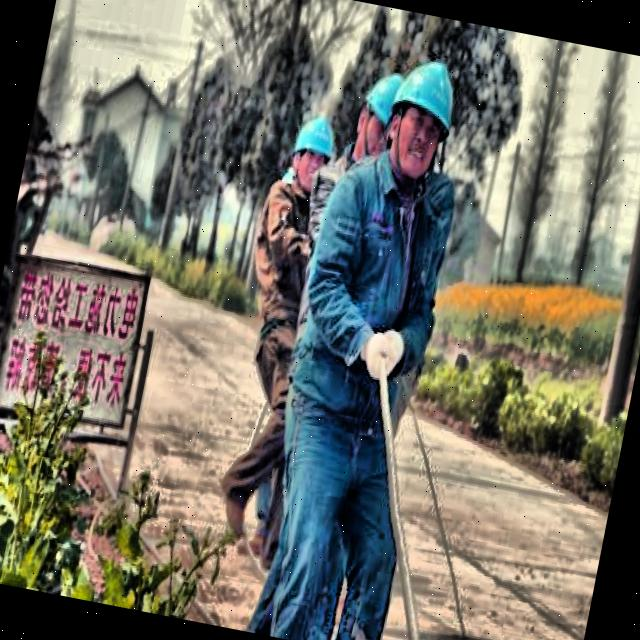helmet: (368, 46, 466, 193), (347, 61, 409, 158), (283, 110, 343, 198)
